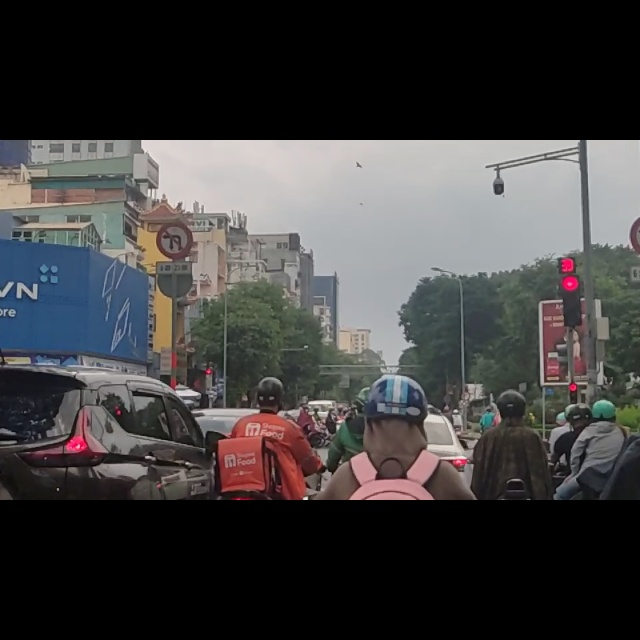bien_cam: (155, 147, 192, 216)
